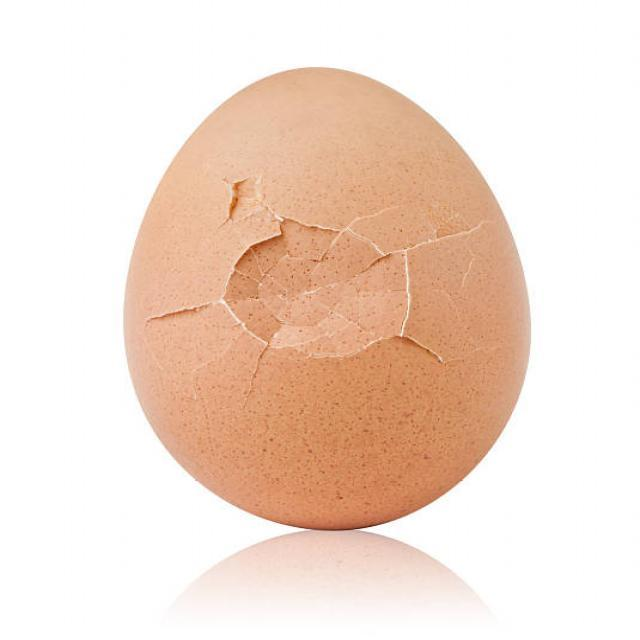biodegradable: (106, 68, 545, 534)
